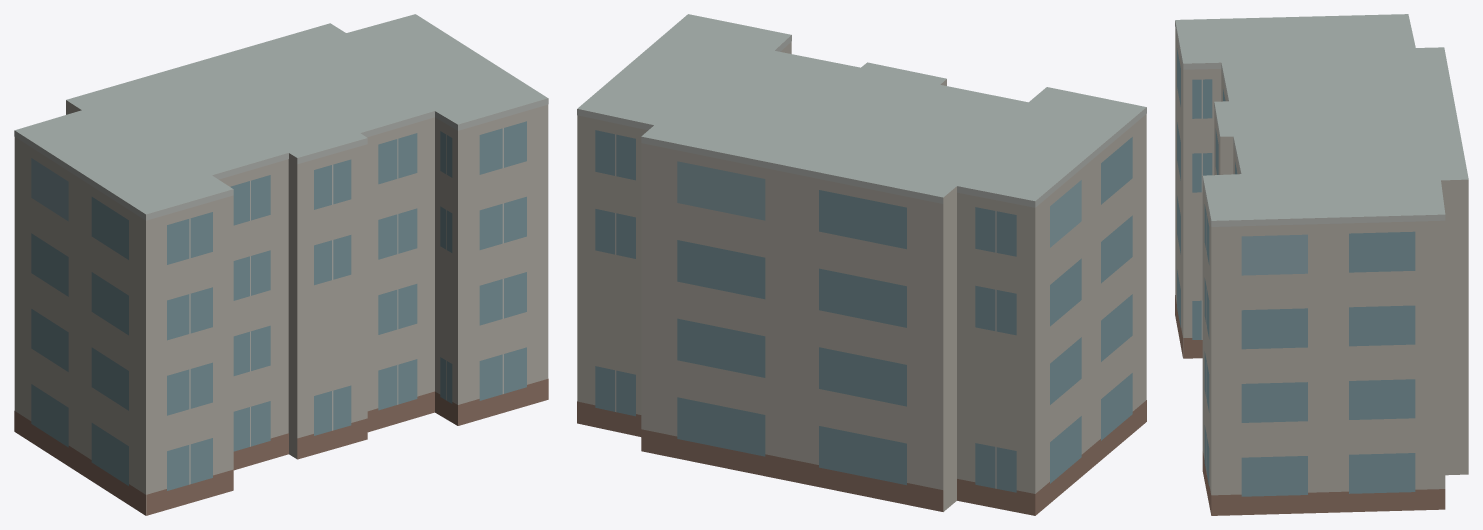
File: survey-upis-32756460.glb
3 views of the same model, side by side, from view 1: azimuth 30°, elevation 25°; view 2: azimuth 150°, elevation 25°; view 3: azimuth 270°, elevation 25° (orthographic). The views are drawn at different scales.
Parts seen in each view (by area): view 1: survey-upis-32756460.tmp; view 2: survey-upis-32756460.tmp; view 3: survey-upis-32756460.tmp.
Part boxes in pixels (box(x1,y1,x2,y2)): survey-upis-32756460.tmp: box(14, 14, 548, 515); survey-upis-32756460.tmp: box(577, 14, 1146, 515); survey-upis-32756460.tmp: box(1175, 14, 1468, 515).
Bounding box in the file's own units: 17.76 × 11.8 × 10.66.
